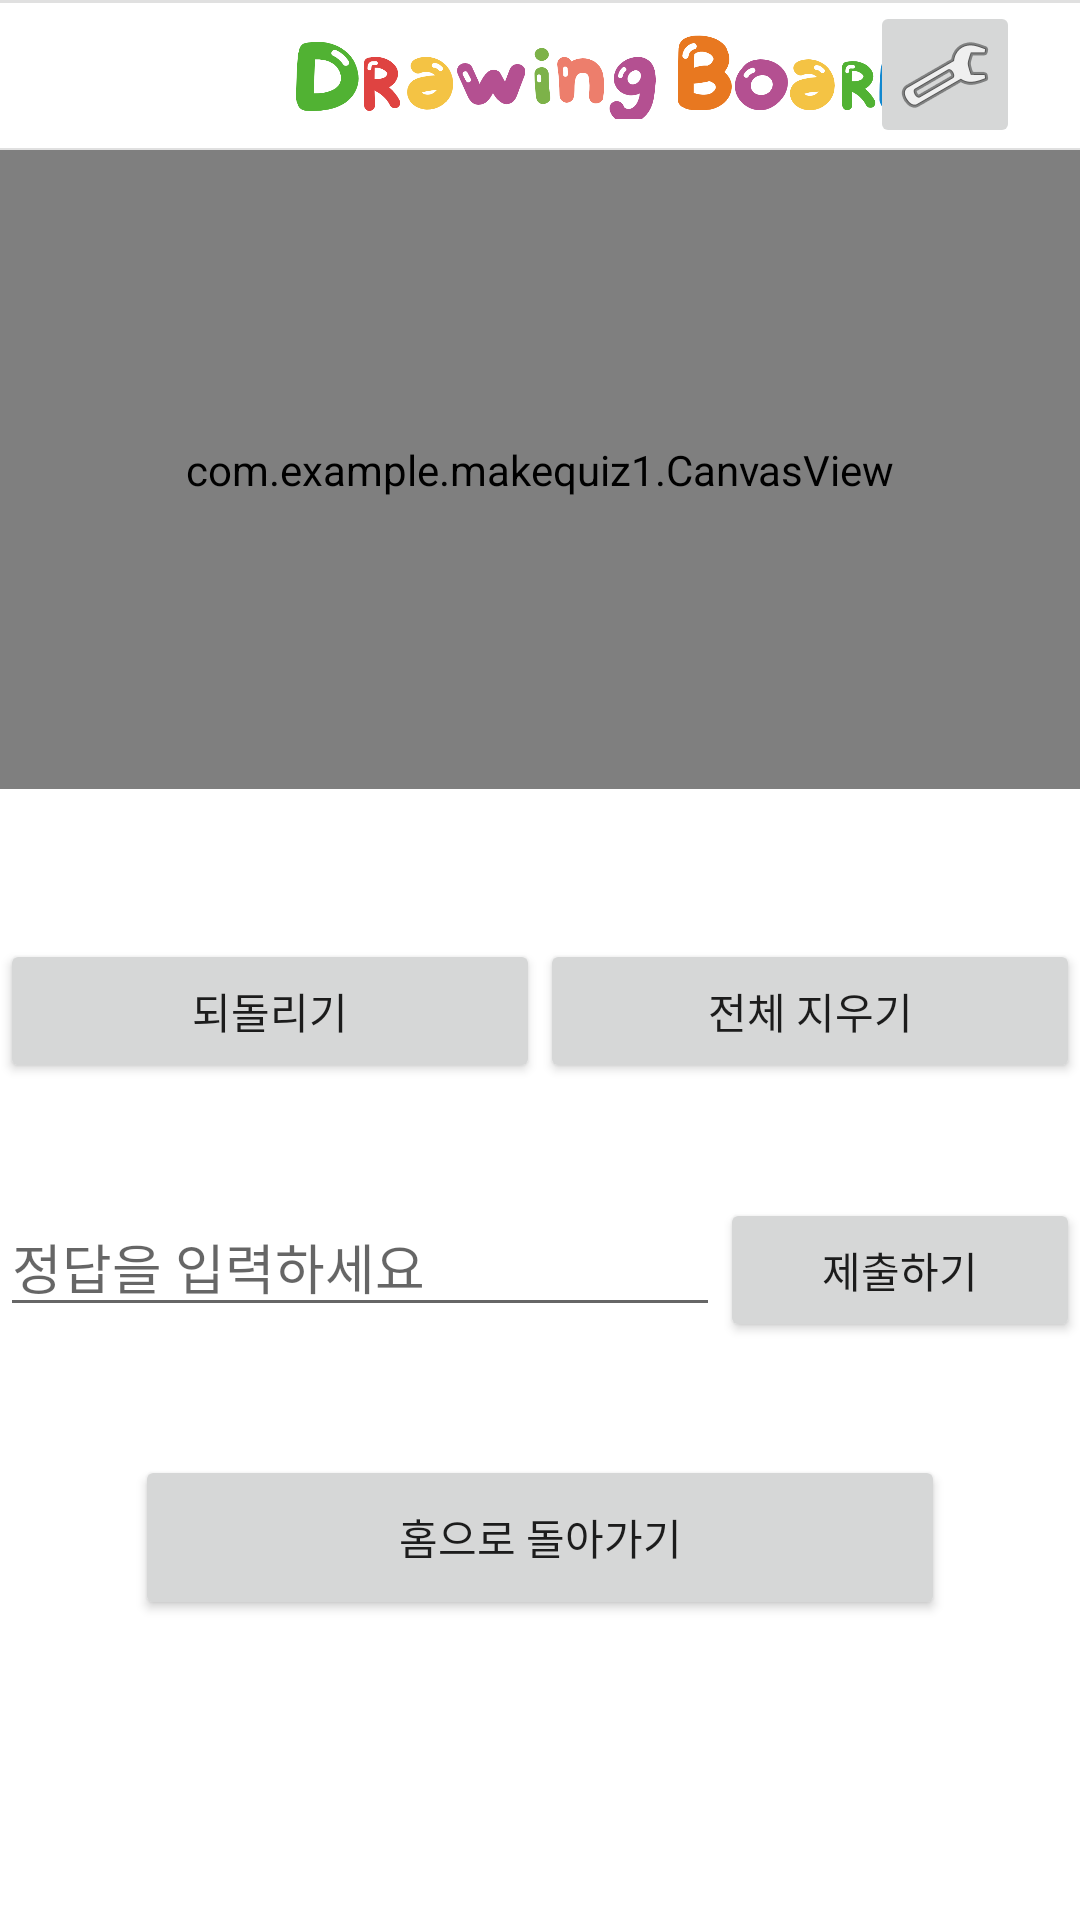

Where to tap for icons on this 1080x1920 app screen, as (x,y):
manage: (945,74)
